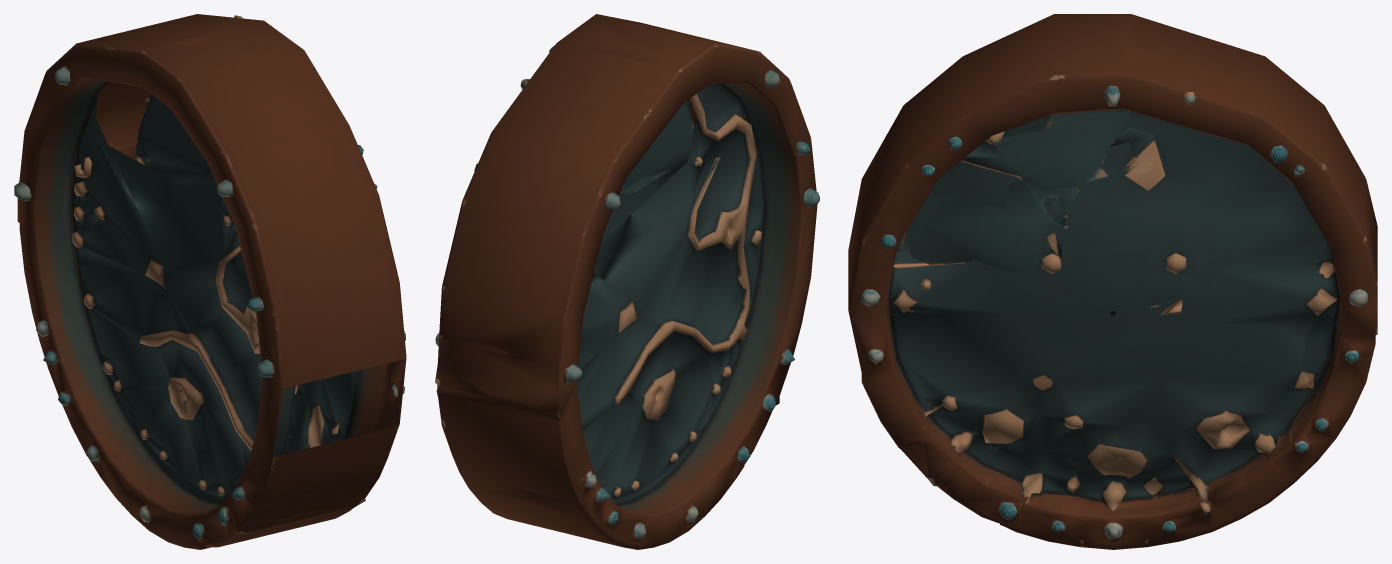
File: goblin_plate_buckler.glb
3 renders of one model, left to right at view 1: azimuth 30°, elevation 25°; view 2: azimuth 150°, elevation 25°; view 3: azimuth 270°, elevation 25°, orthographic. The views are drawn at different scales.
Visible parts, largest first — view 1: base_model_path; view 2: base_model_path; view 3: base_model_path.
Boxes of the visible parts, left/top/right/bottom form: base_model_path: left=14, top=14, right=406, bottom=549; base_model_path: left=435, top=14, right=819, bottom=549; base_model_path: left=848, top=14, right=1377, bottom=549.
Size of the model in its own units: 0.364 by 0.9922 by 0.9961.
Materials: 1 (1 with a texture image).
